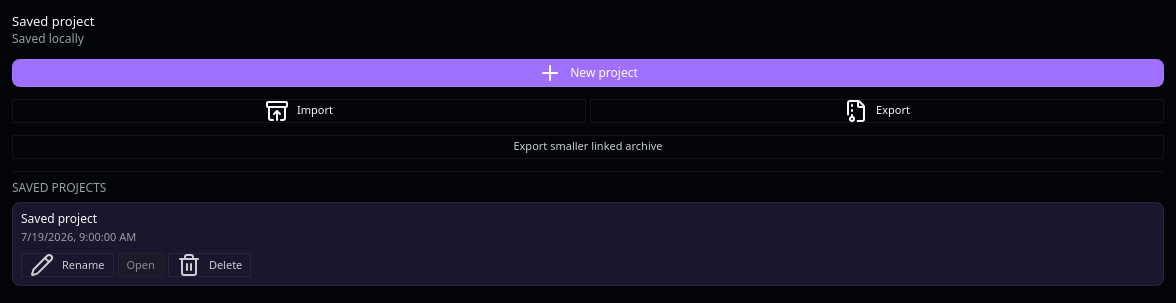
it: ProjectsPanel › deletes the open saved project after explicit confirmation
Click the button "Delete".
click(210, 265)  # box [168, 253, 251, 277]
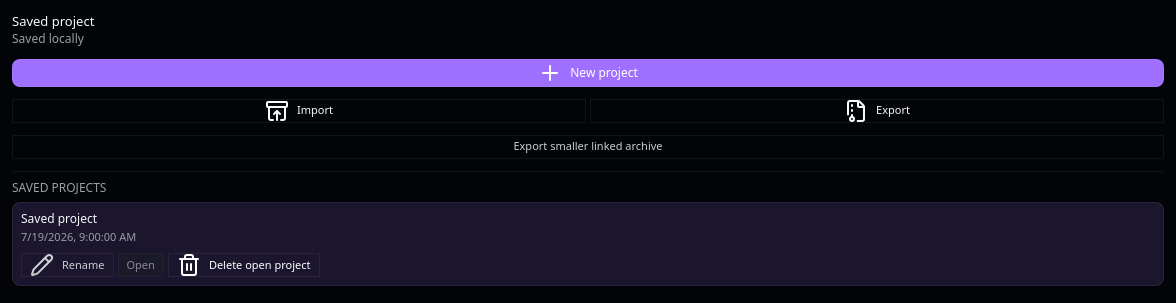
Click the button "Delete open project".
click(244, 265)  # box [168, 253, 320, 277]
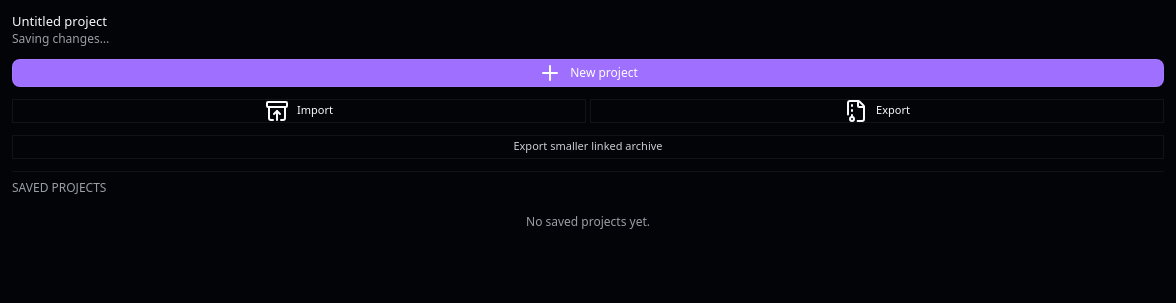
Now the text "No saved projects yet." is shown, box [526, 213, 650, 230]
